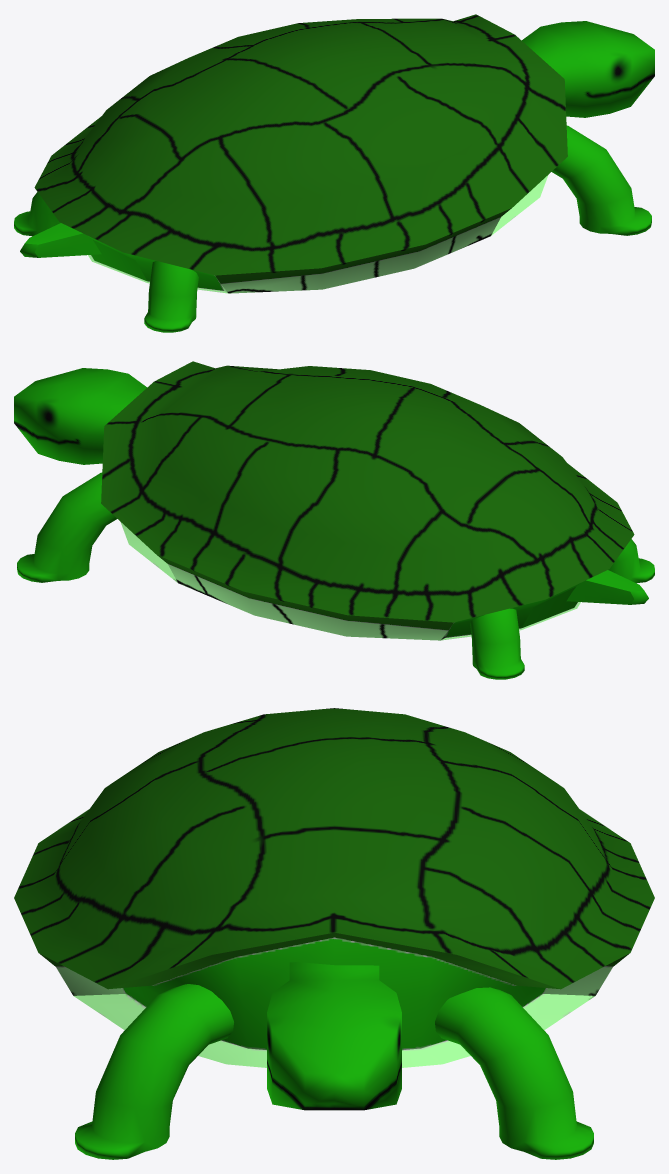
Rendered from turtleModel.fbx.
3 views of the same model, one above another, from view 1: azimuth 30°, elevation 25°; view 2: azimuth 150°, elevation 25°; view 3: azimuth 270°, elevation 25° (orthographic). The views are drawn at different scales.
Parts seen in each view (by area): view 1: turtleModel1; view 2: turtleModel1; view 3: turtleModel1.
Boxes of the visible parts, left/top/right/bottom form: turtleModel1: left=14, top=14, right=654, bottom=332; turtleModel1: left=14, top=361, right=654, bottom=679; turtleModel1: left=14, top=708, right=654, bottom=1159.
Size of the model in its own units: 641 by 166 by 412.
